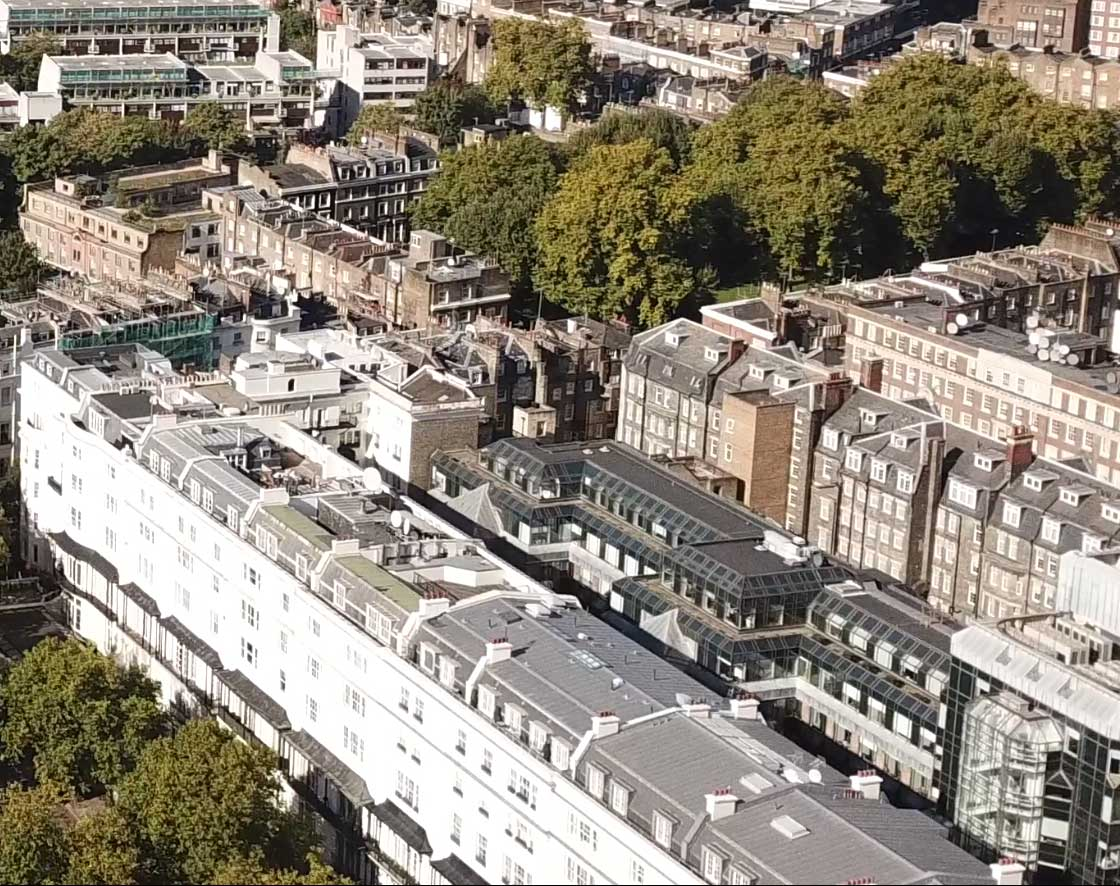trees: (499, 111, 1042, 262)
